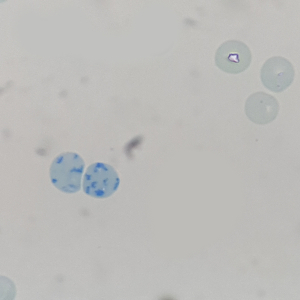aggregate reticulocyte: (47, 150, 86, 195), (81, 161, 122, 199)
erythrocyte: (213, 38, 254, 75), (259, 55, 297, 94)
punctate reticulocyte: (243, 90, 281, 126)
